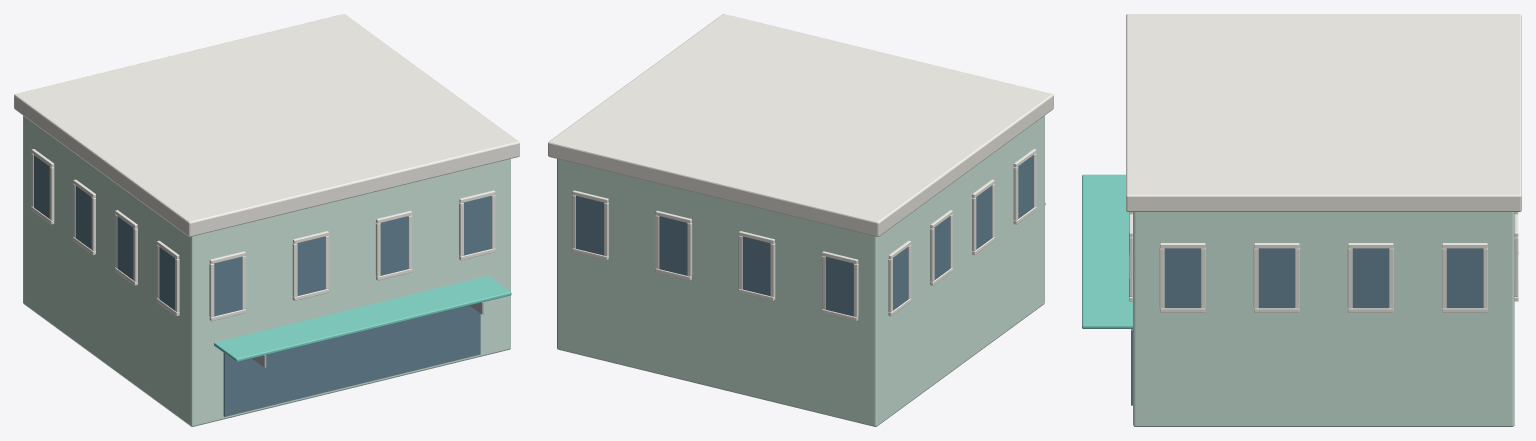
The model's file is bldg_mint_shop.glb.
The picture shows the model from 3 angles, left to right: view 1: azimuth 30°, elevation 25°; view 2: azimuth 150°, elevation 25°; view 3: azimuth 270°, elevation 25°; orthographic projection. The views are drawn at different scales.
Visible parts, largest first — view 1: bldg_mint_shop_parapet, bldg_mint_shop_body, bldg_mint_shop_shopfront, bldg_mint_shop_awning, bldg_mint_shop_upper_back_1_glass, bldg_mint_shop_upper_back_2_glass, bldg_mint_shop_upper_back_0_glass, bldg_mint_shop_upper_back_3_glass, bldg_mint_shop_upper_right_2_glass, bldg_mint_shop_upper_right_1_glass, bldg_mint_shop_upper_right_3_glass, bldg_mint_shop_upper_right_0_glass; view 2: bldg_mint_shop_body, bldg_mint_shop_parapet, bldg_mint_shop_upper_front_1_glass, bldg_mint_shop_upper_front_2_glass, bldg_mint_shop_upper_front_0_glass, bldg_mint_shop_upper_front_3_glass, bldg_mint_shop_upper_right_1_glass, bldg_mint_shop_upper_right_2_glass, bldg_mint_shop_upper_right_0_glass, bldg_mint_shop_upper_right_3_glass; view 3: bldg_mint_shop_parapet, bldg_mint_shop_body, bldg_mint_shop_awning, bldg_mint_shop_upper_left_3_glass, bldg_mint_shop_upper_left_0_glass, bldg_mint_shop_upper_left_1_glass, bldg_mint_shop_upper_left_2_glass.
Boxes of the visible parts, box(x1,y1,x2,y2) form: bldg_mint_shop_parapet: box(14, 14, 519, 236); bldg_mint_shop_body: box(23, 115, 510, 426); bldg_mint_shop_shopfront: box(223, 305, 480, 416); bldg_mint_shop_awning: box(214, 276, 511, 361); bldg_mint_shop_upper_back_1_glass: box(297, 236, 325, 296); bldg_mint_shop_upper_back_2_glass: box(380, 216, 408, 275); bldg_mint_shop_upper_back_0_glass: box(214, 257, 242, 316); bldg_mint_shop_upper_back_3_glass: box(464, 196, 491, 255); bldg_mint_shop_upper_right_2_glass: box(75, 185, 91, 249); bldg_mint_shop_upper_right_1_glass: box(117, 216, 133, 279); bldg_mint_shop_upper_right_3_glass: box(34, 155, 49, 218); bldg_mint_shop_upper_right_0_glass: box(159, 247, 174, 310); bldg_mint_shop_body: box(557, 115, 1044, 426); bldg_mint_shop_parapet: box(548, 14, 1053, 236); bldg_mint_shop_upper_front_1_glass: box(742, 236, 770, 296); bldg_mint_shop_upper_front_2_glass: box(659, 216, 687, 275); bldg_mint_shop_upper_front_0_glass: box(825, 257, 853, 316); bldg_mint_shop_upper_front_3_glass: box(576, 196, 603, 255); bldg_mint_shop_upper_right_1_glass: box(976, 185, 992, 249); bldg_mint_shop_upper_right_2_glass: box(934, 216, 950, 279); bldg_mint_shop_upper_right_0_glass: box(1018, 155, 1033, 218); bldg_mint_shop_upper_right_3_glass: box(893, 247, 908, 310); bldg_mint_shop_parapet: box(1126, 14, 1521, 211); bldg_mint_shop_body: box(1133, 212, 1514, 426); bldg_mint_shop_awning: box(1082, 174, 1132, 328); bldg_mint_shop_upper_left_3_glass: box(1446, 248, 1483, 308); bldg_mint_shop_upper_left_0_glass: box(1164, 248, 1200, 308); bldg_mint_shop_upper_left_1_glass: box(1258, 248, 1294, 308); bldg_mint_shop_upper_left_2_glass: box(1352, 248, 1388, 308).
Bounding box in the file's own units: 12.42 × 7.49 × 12.68.
